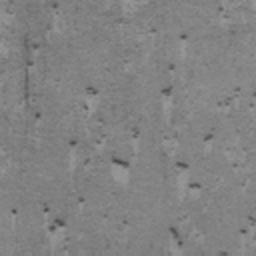Oxide scale of temperature system: (10, 64, 256, 242), (169, 227, 184, 253), (238, 215, 256, 234), (27, 42, 40, 67)
